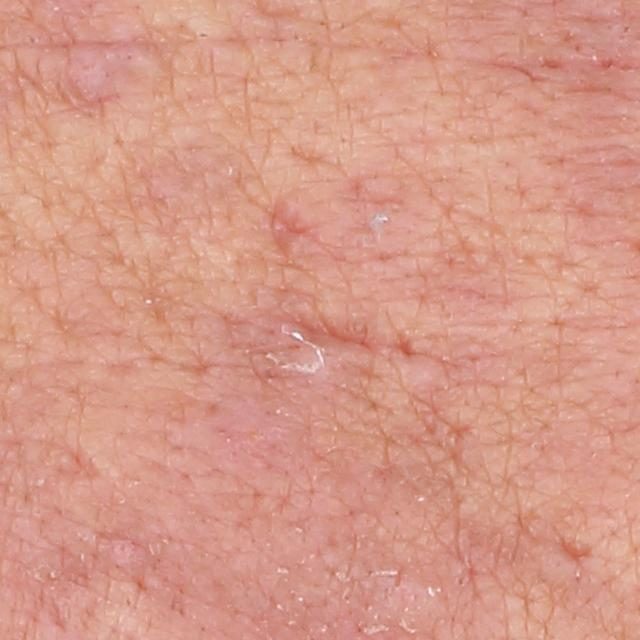atrophic_scar: (265, 194, 317, 261), (40, 434, 106, 486), (560, 535, 597, 563)
